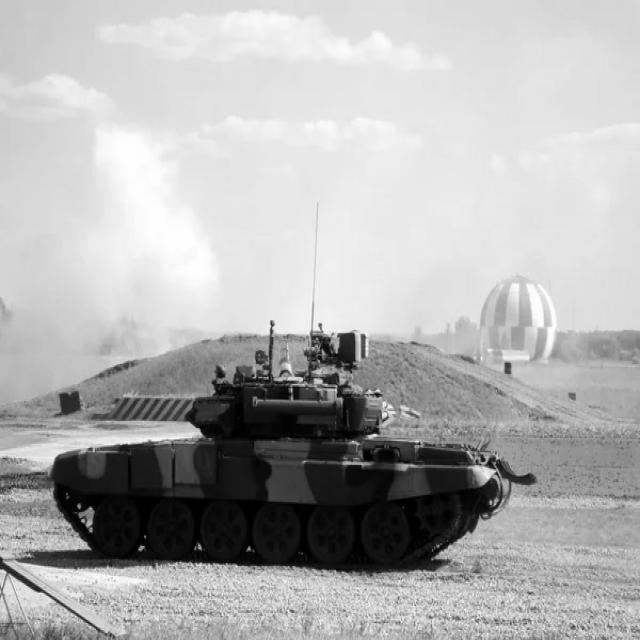Tank: (48, 332, 518, 579)
